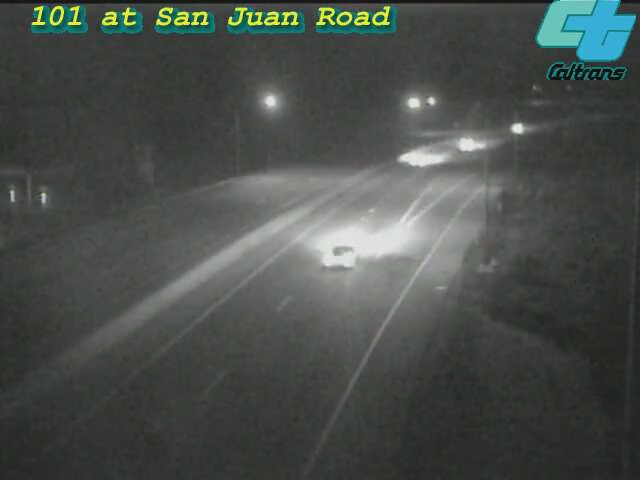vehicle: (301, 216, 381, 296), (496, 103, 546, 153), (439, 119, 489, 169), (397, 133, 447, 183)
